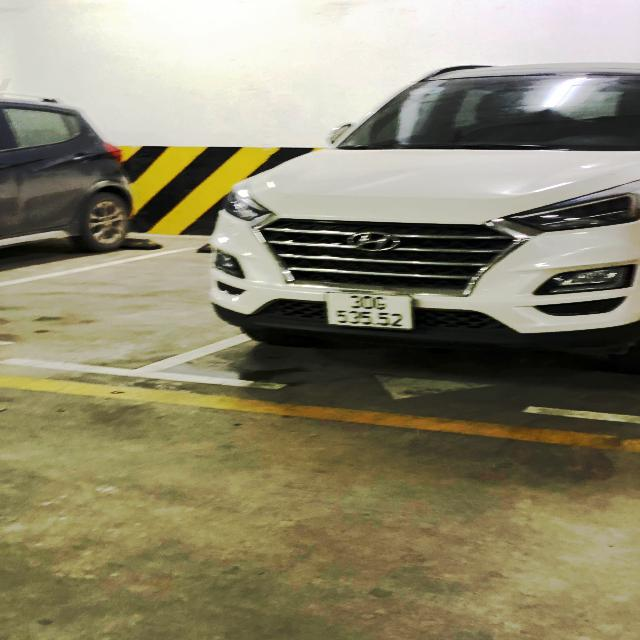license_plate: (325, 292, 419, 331)
